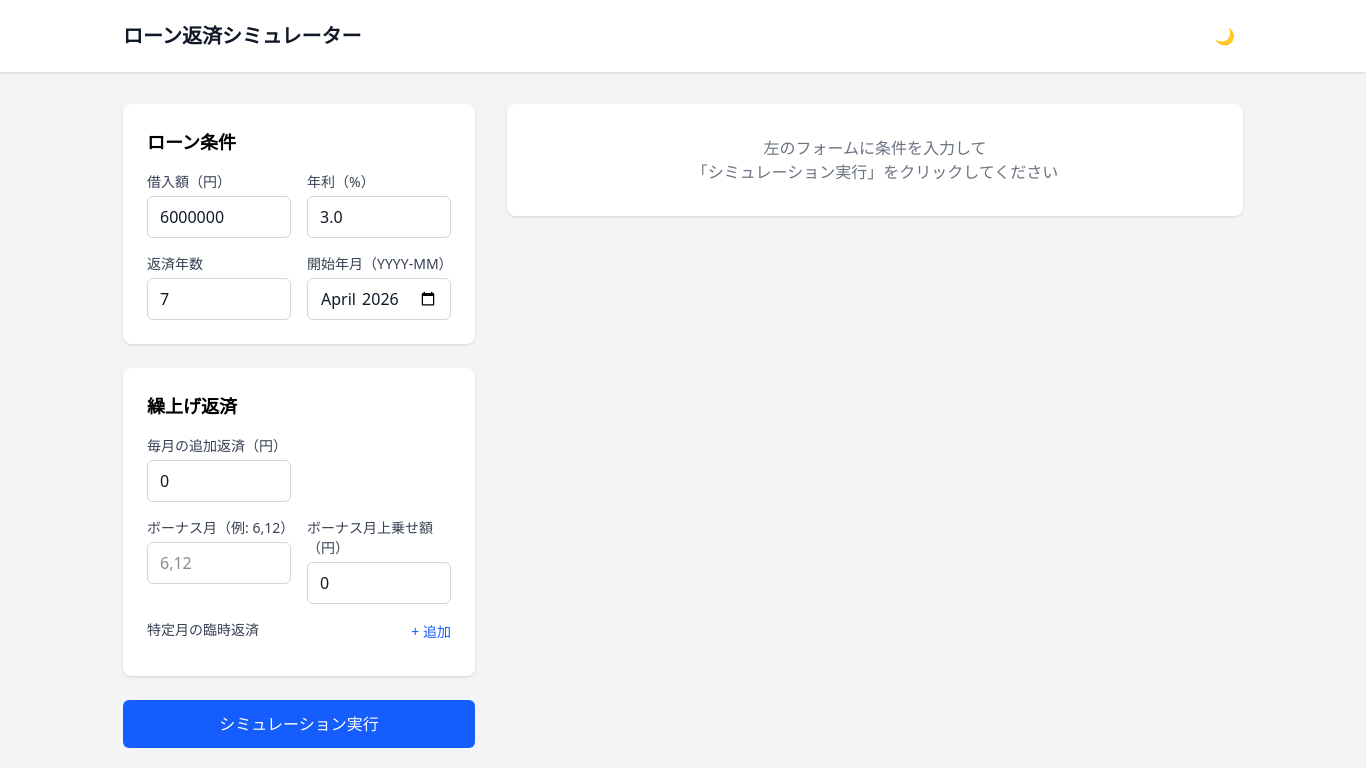
Scenario: App 統合テスト › 入力値の変更 › 借入額を変更するとシミュレーション結果に反映される
The width and height of the screenshot is (1366, 768).
// 借入額を1000万に変更
Step 1. Replace the text in the number field labelled "借入額（円）" with "10000000" → point(219, 217), box 147,196 -> 291,238
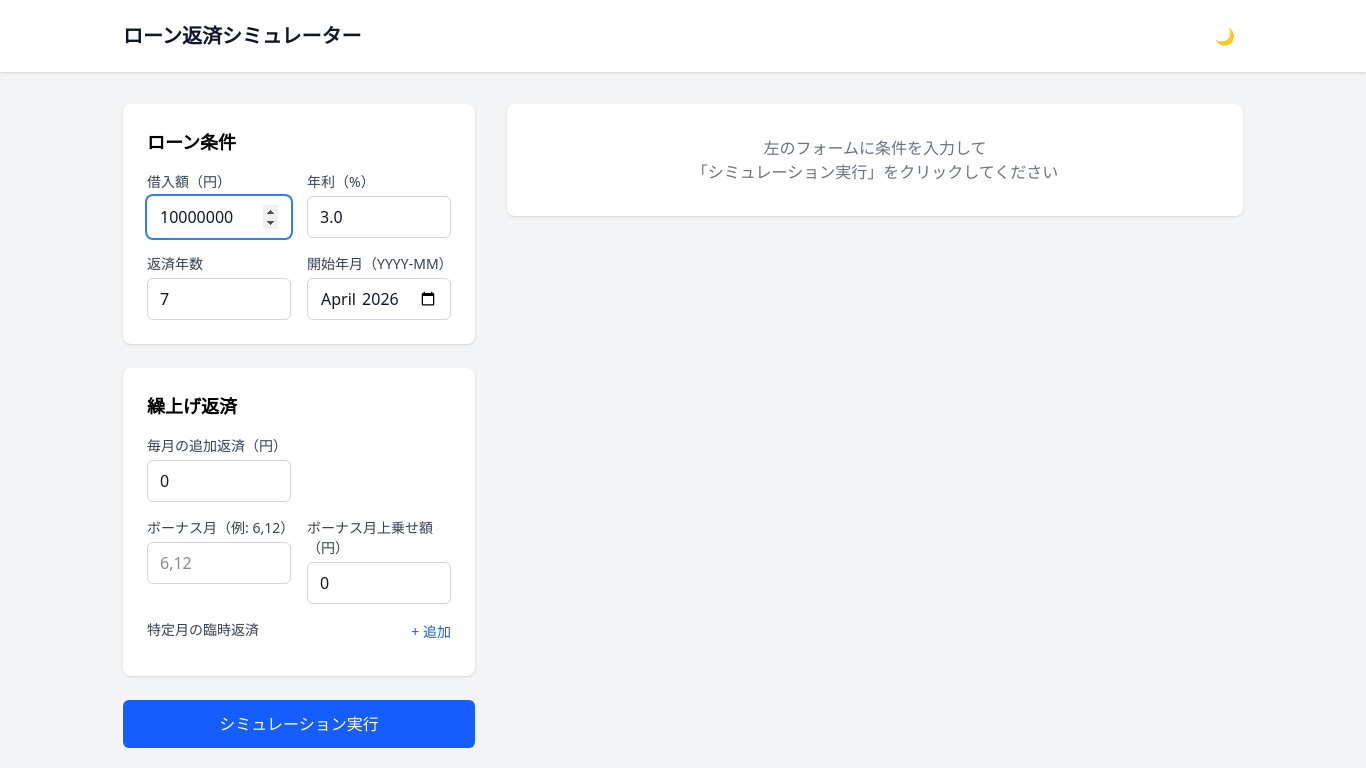
Step 2. Click the button "シミュレーション実行" → point(299, 724), box 123,700 -> 475,748
(page scrolled)
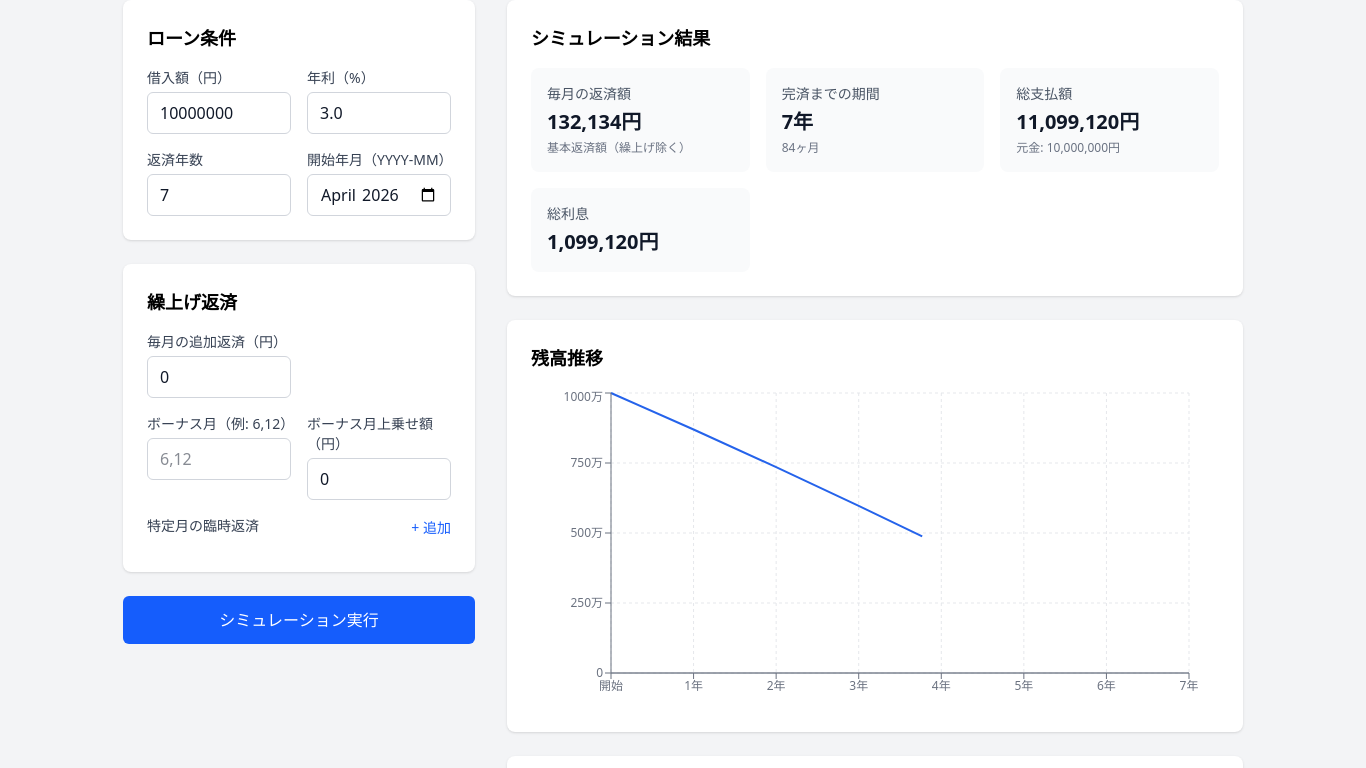
Check: the text "元金: 10,000,000円" is shown, box 1016,139 -> 1120,156
